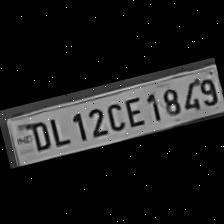1: (64, 107, 89, 143), (140, 87, 164, 123)
2: (81, 102, 108, 139)
4: (176, 76, 202, 113)
8: (155, 82, 183, 118)
9: (192, 72, 218, 108)
C: (101, 97, 126, 132)
D: (22, 115, 52, 153)
E: (118, 92, 146, 128)
L: (43, 110, 72, 148)
